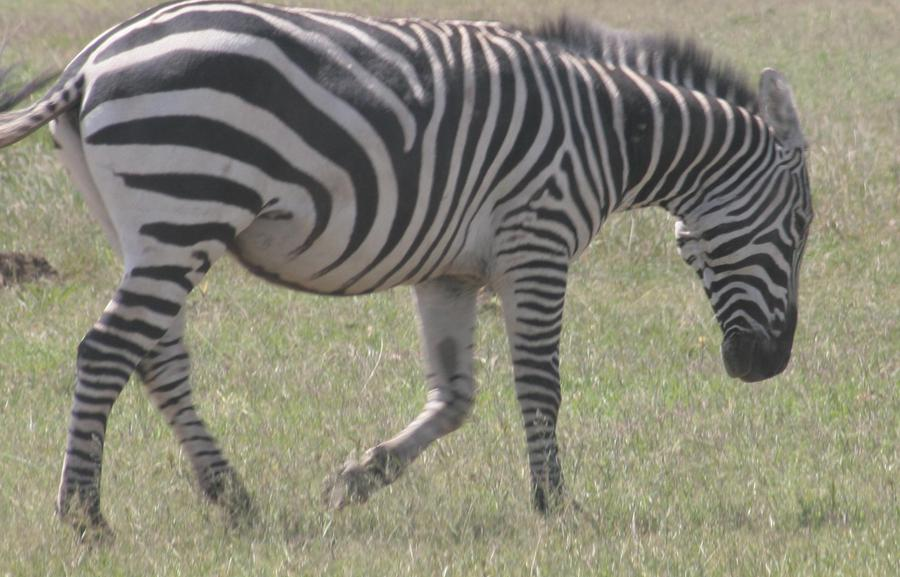zebra_plains: (99, 8, 613, 305)
